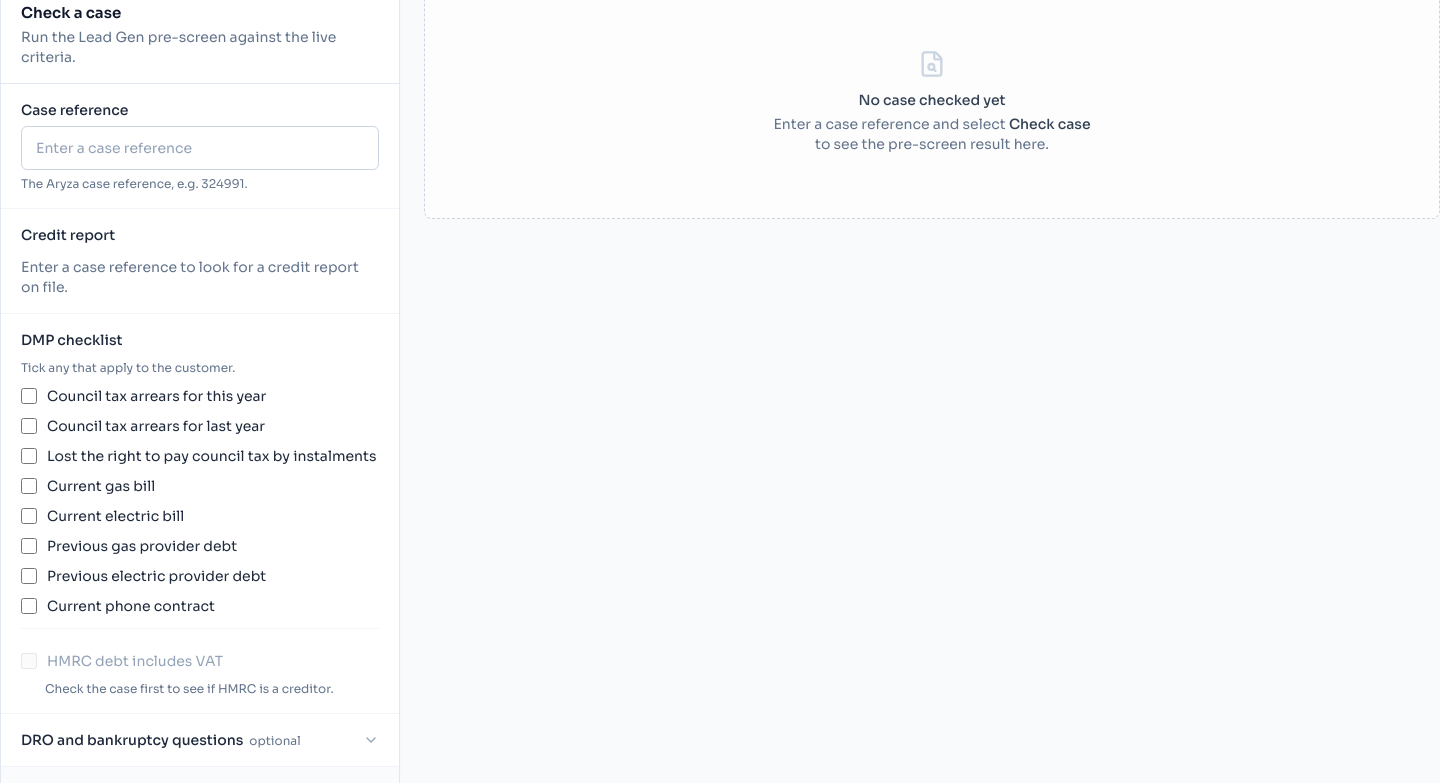
Test: LeadGenCheckPanel › shows DRO and bankruptcy with what to confirm
In the field labelled "Case reference": (200, 148) [21,126,379,170], type "123456"
(page scrolled)
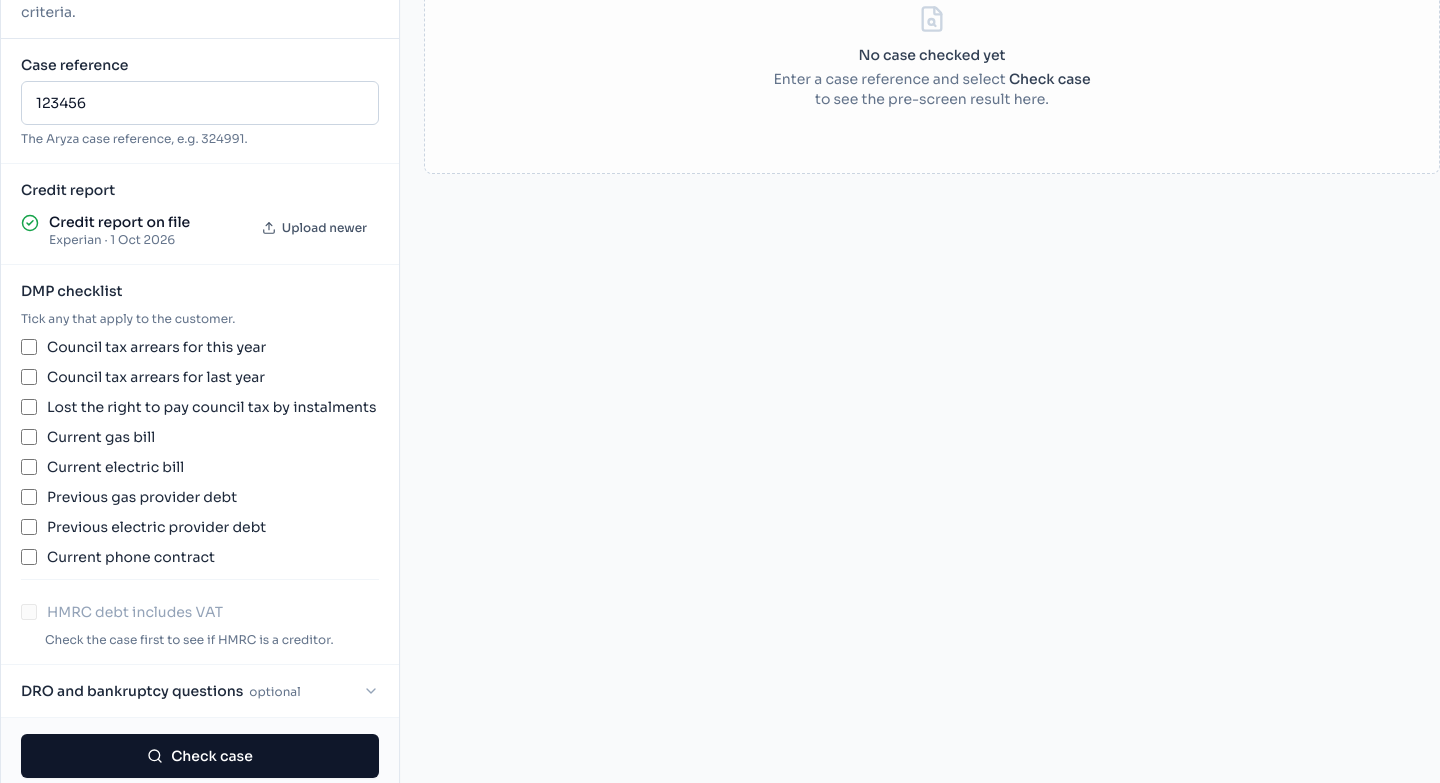
Click the button "Check case": (200, 756) [21,734,379,778]
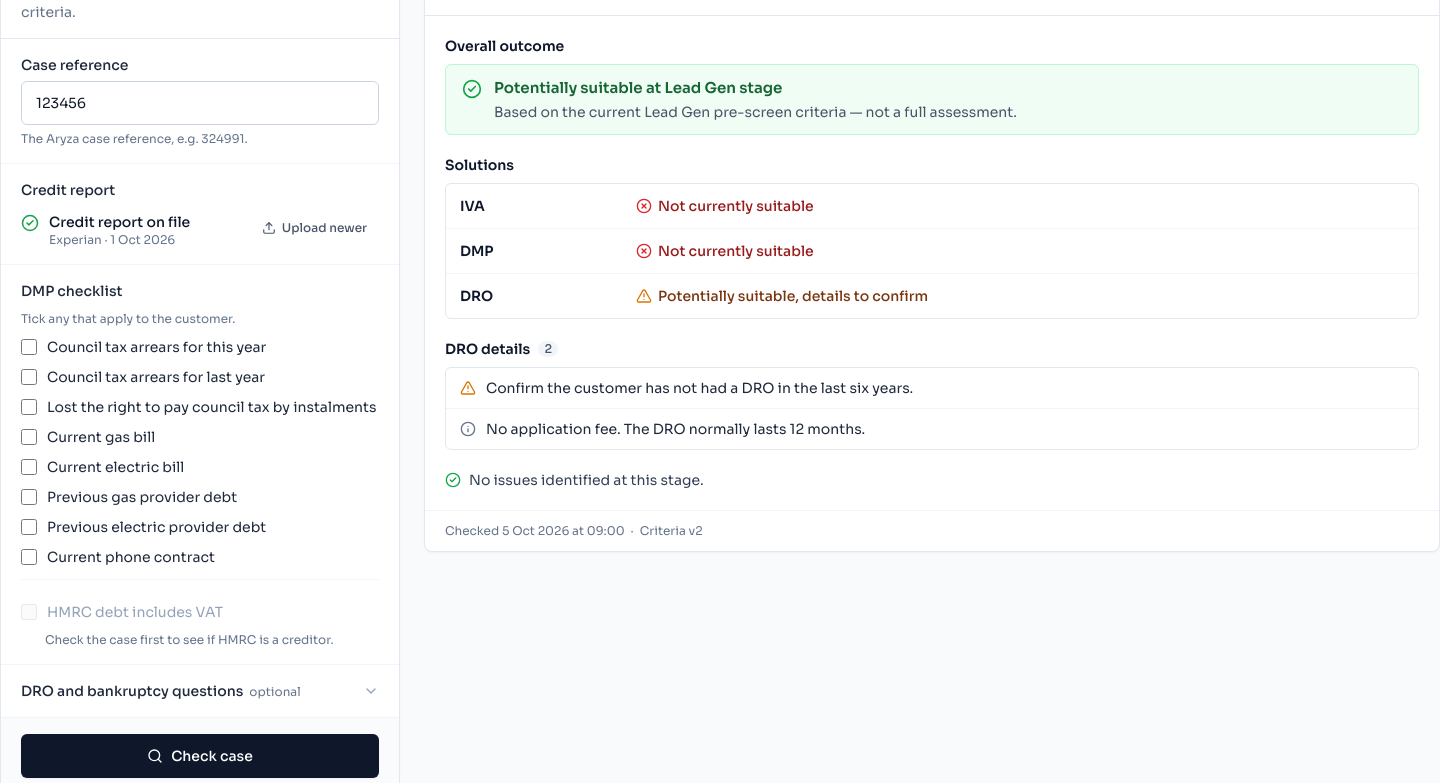
Now the text "Potentially suitable, details to confirm" is shown, box [658,286,928,306]
Now the heading "DRO details" is shown, box [445,338,530,358]
Now the text "Confirm the customer has not had a DRO in the last six years." is shown, box [486,378,913,398]
